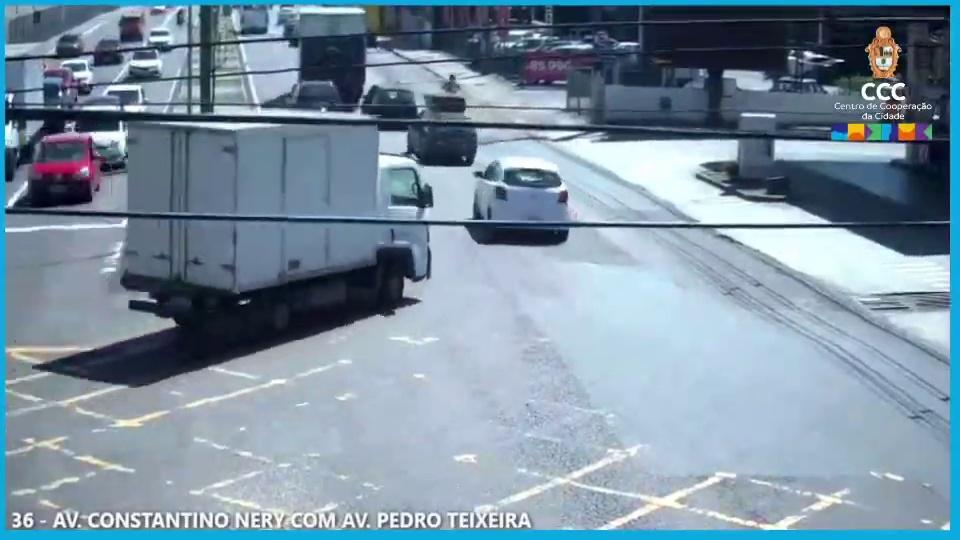car: (473, 156, 576, 248), (24, 132, 105, 206), (404, 107, 479, 163), (129, 45, 164, 81), (89, 37, 127, 68), (51, 30, 86, 57)
truck: (125, 108, 439, 330), (292, 5, 368, 104), (6, 42, 44, 175)
